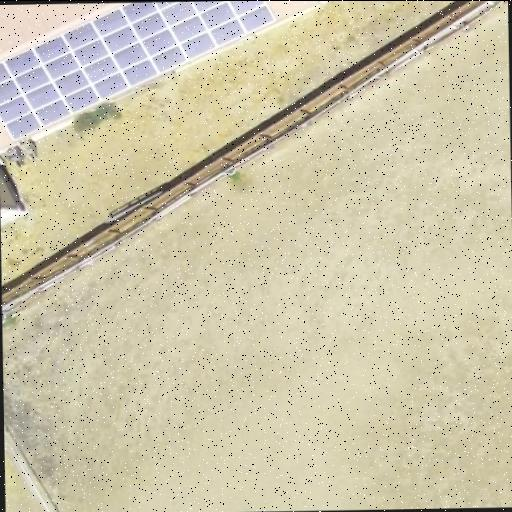solar-panel: (0, 0, 276, 141)
